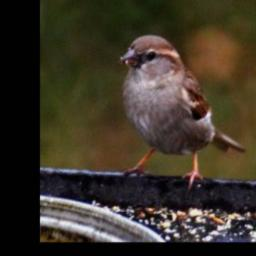Sparrow: (116, 32, 246, 192)
